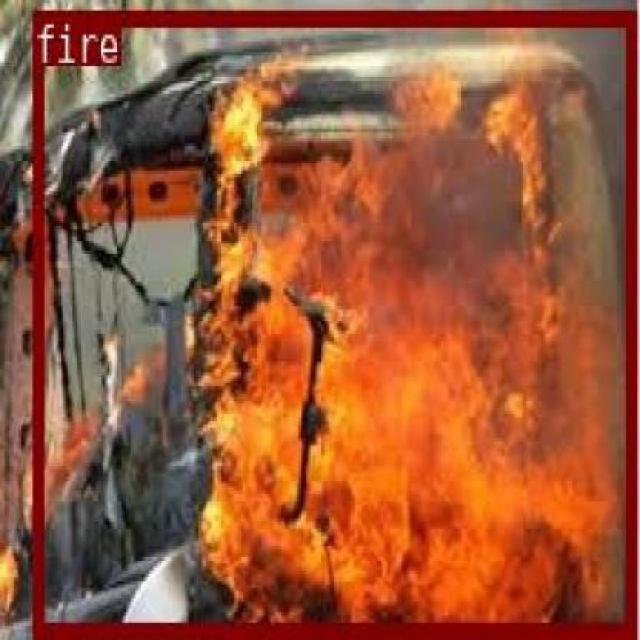Fire: (31, 7, 634, 633)
